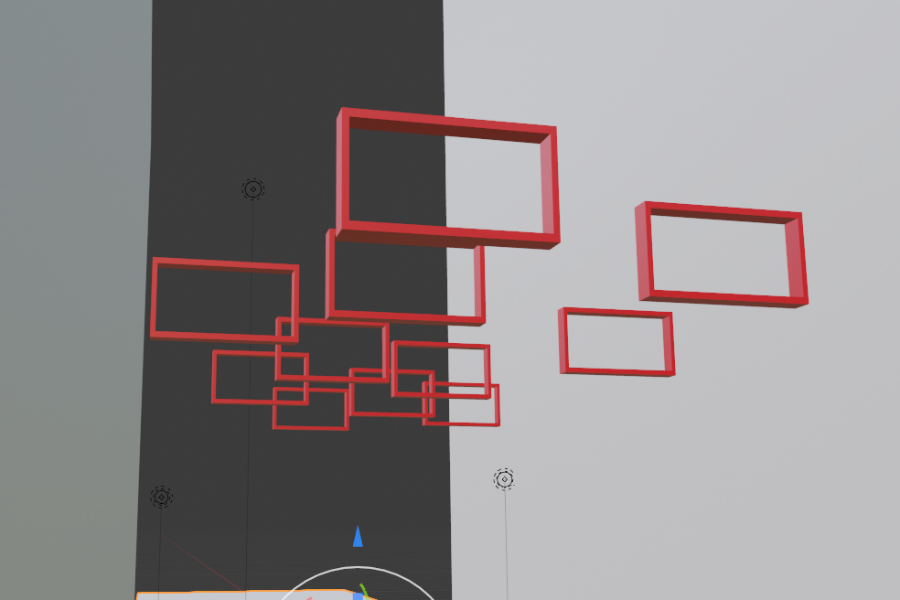GATE: (333, 104, 564, 254), (634, 199, 811, 309), (320, 229, 492, 323), (148, 251, 299, 346), (557, 306, 676, 379)
